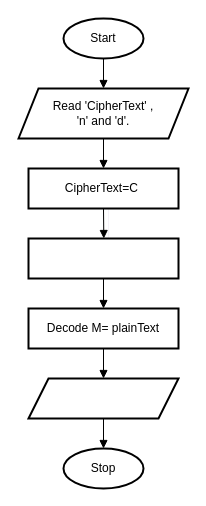
The diagram is 206 pixels wide and 506 high, and some of its shapes have lost their labels. The shapes that lost their labels are listed below. From the top down, each one's centre as x and y in pixels, then its label:
At point 103,258: "M=C d Mod n".
At point 103,398: "Return 'PlainText'".
